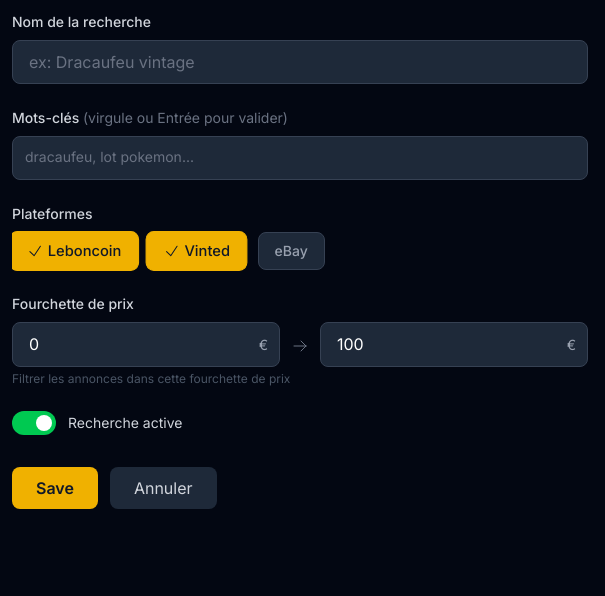
SearchForm — validation › affiche une erreur si aucun keyword
This screenshot has width=605, height=596.
Type "Mon ETB" into the field with placeholder "ex: Dracaufeu vintage". click: (300, 62)
box: [12, 40, 588, 84]
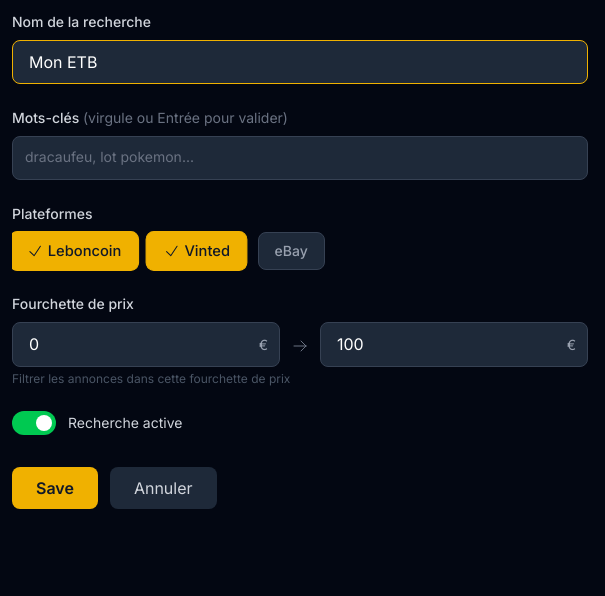
Submit the text "Save"
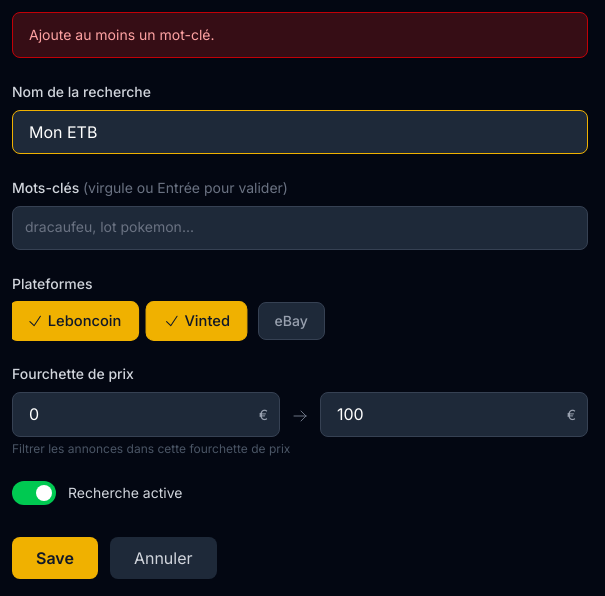
Now the text "Ajoute au moins un mot-clé." is shown, box [12, 12, 588, 58]
